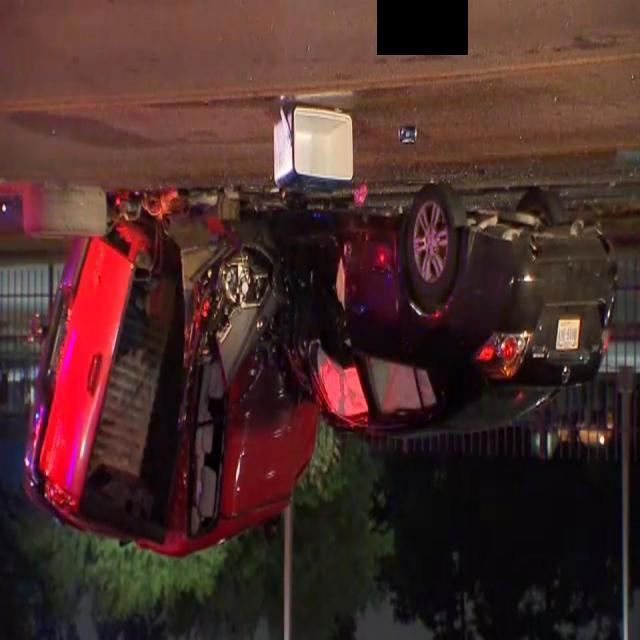severe: (18, 194, 620, 570)
